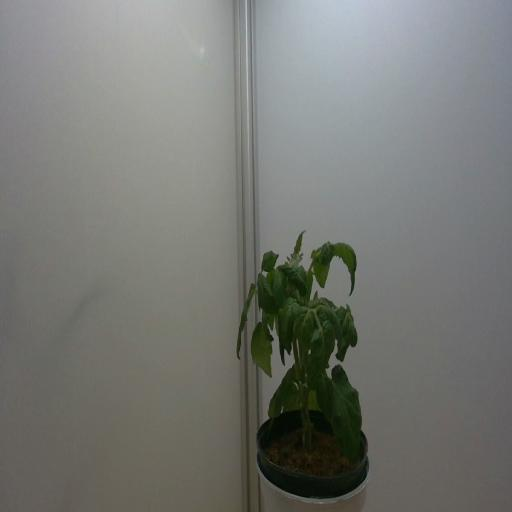Tomato-Leaves-Cupboard-: (327, 362, 366, 464), (230, 280, 256, 362), (264, 370, 295, 438), (308, 315, 336, 377), (249, 320, 275, 381), (333, 234, 358, 295), (275, 290, 290, 375), (304, 360, 328, 412), (311, 235, 333, 290), (280, 255, 307, 299), (332, 305, 350, 365), (340, 305, 362, 349), (255, 270, 275, 316), (295, 314, 312, 368), (268, 264, 286, 311), (282, 305, 298, 352), (262, 246, 280, 275), (291, 226, 307, 258), (321, 242, 336, 270)
